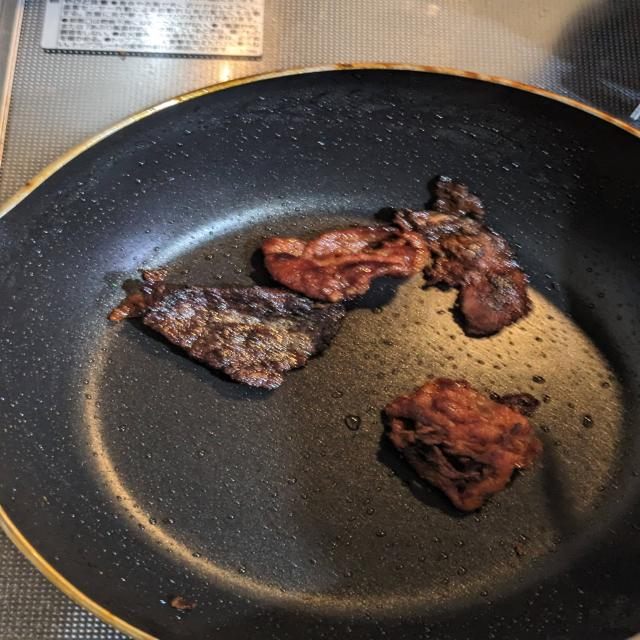overcooked beef,: (100, 255, 359, 406), (395, 168, 533, 344)
overcooked pork: (364, 364, 547, 526), (265, 204, 427, 313)
